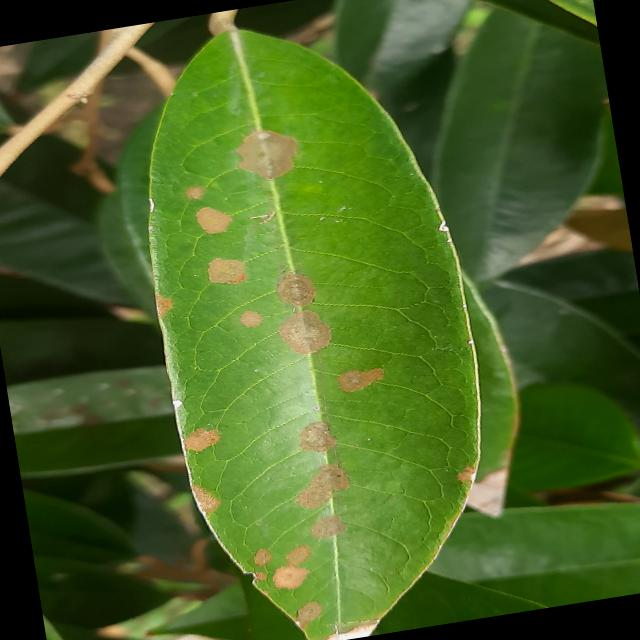Algal Leaf Spot: (108, 0, 529, 639)
